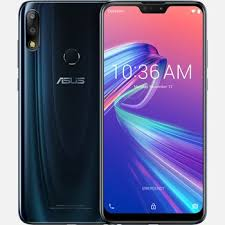asus: (98, 1, 208, 225), (14, 1, 101, 225)
